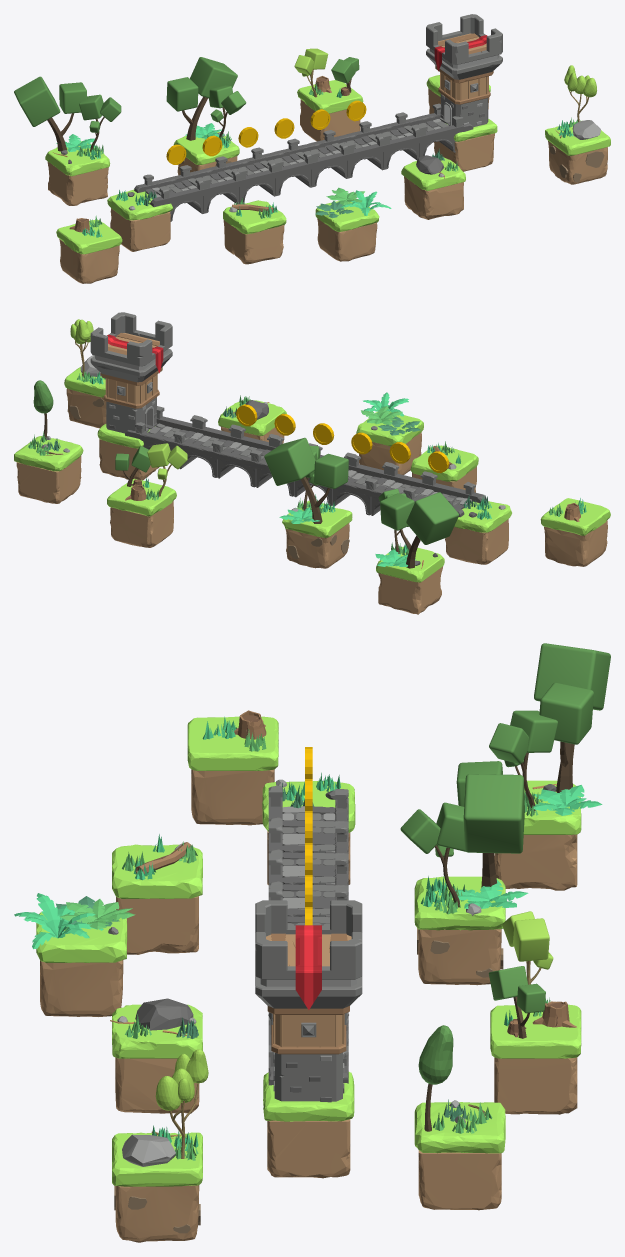
The picture shows the model from 3 angles, top to bottom: view 1: azimuth 30°, elevation 25°; view 2: azimuth 150°, elevation 25°; view 3: azimuth 270°, elevation 25°; orthographic projection. The views are drawn at different scales.
Parts seen in each view (by area): view 1: TowerV1, TreeV3_004_2, TreeV3_004, Bridge_002_4, Tile_Bot_Part_1, Tile_Bot_Part_4, Tile_Bot_Part_5, Tile_Bot_Part_2, Tile_Bot_Part_6, Bridge_002_7, Tile_Bot_Part_7, Bridge_002_6 (+27 smaller); view 2: TowerV1, TreeV3_004, TreeV3_004_2, Tile_Bot_Part_9, Tile_Bot_Part_3, Tile_Bot_Part_7, Tile_Bot_Part_4, Tile_Bot_Part_6, Bridge_002_3, Tile_Bot_Part, Bridge_002_2, Bridge_002_5 (+26 smaller); view 3: TowerV1, TreeV3_004_2, TreeV3_004, Tile_Bot_Part_8, Tile_Bot_Part_9, Tile_Bot_Part_3, Tile_Bot_Part_2, Tile_Bot_Part_10, Tile_Bot_Part, Tile_Bot_Part_1, Tile_Bot_Part_7, Tile_Bot_Part_4 (+28 smaller).
Boxes of the visible parts, x1,y1,x2,y2 form: TowerV1: (426, 14, 502, 127); TreeV3_004_2: (14, 76, 87, 151); TreeV3_004: (166, 57, 237, 140); Bridge_002_4: (389, 103, 473, 156); Tile_Bot_Part_1: (223, 220, 284, 264); Tile_Bot_Part_4: (47, 161, 108, 205); Tile_Bot_Part_5: (404, 176, 463, 219); Tile_Bot_Part_2: (317, 218, 377, 261); Tile_Bot_Part_6: (110, 208, 170, 251); Bridge_002_7: (134, 165, 217, 221); Tile_Bot_Part_7: (59, 239, 119, 283); Bridge_002_6: (172, 156, 253, 213); TowerV1: (90, 312, 172, 433); TreeV3_004: (264, 437, 348, 523); TreeV3_004_2: (380, 492, 459, 568); Tile_Bot_Part_9: (16, 455, 81, 503); Tile_Bot_Part_3: (110, 501, 173, 547); Tile_Bot_Part_7: (544, 520, 607, 566); Tile_Bot_Part_4: (378, 566, 442, 614); Tile_Bot_Part_6: (445, 519, 508, 564); Bridge_002_3: (165, 415, 253, 477); Tile_Bot_Part: (285, 523, 349, 568); Bridge_002_2: (203, 424, 284, 487); Bridge_002_5: (331, 452, 406, 515); TowerV1: (255, 900, 362, 1102); TreeV3_004_2: (534, 643, 610, 792); TreeV3_004: (456, 761, 524, 887); Tile_Bot_Part_8: (267, 1119, 350, 1178); Tile_Bot_Part_9: (418, 1150, 501, 1210); Tile_Bot_Part_3: (494, 1057, 577, 1114); Tile_Bot_Part_2: (40, 960, 123, 1016); Tile_Bot_Part_10: (115, 1185, 199, 1242); Tile_Bot_Part: (418, 929, 501, 985); Tile_Bot_Part_1: (116, 896, 198, 954); Tile_Bot_Part_7: (191, 769, 274, 825); Tile_Bot_Part_4: (494, 834, 577, 890).
Bounding box in the file's own units: 14.2 × 3.5 × 7.89.
Materials: 1 (1 with a texture image).
